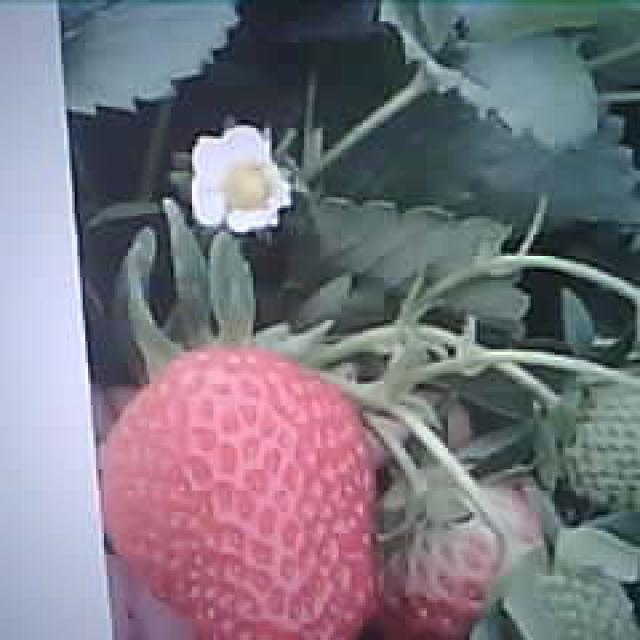strawberry: (94, 350, 380, 640), (550, 370, 640, 510)
